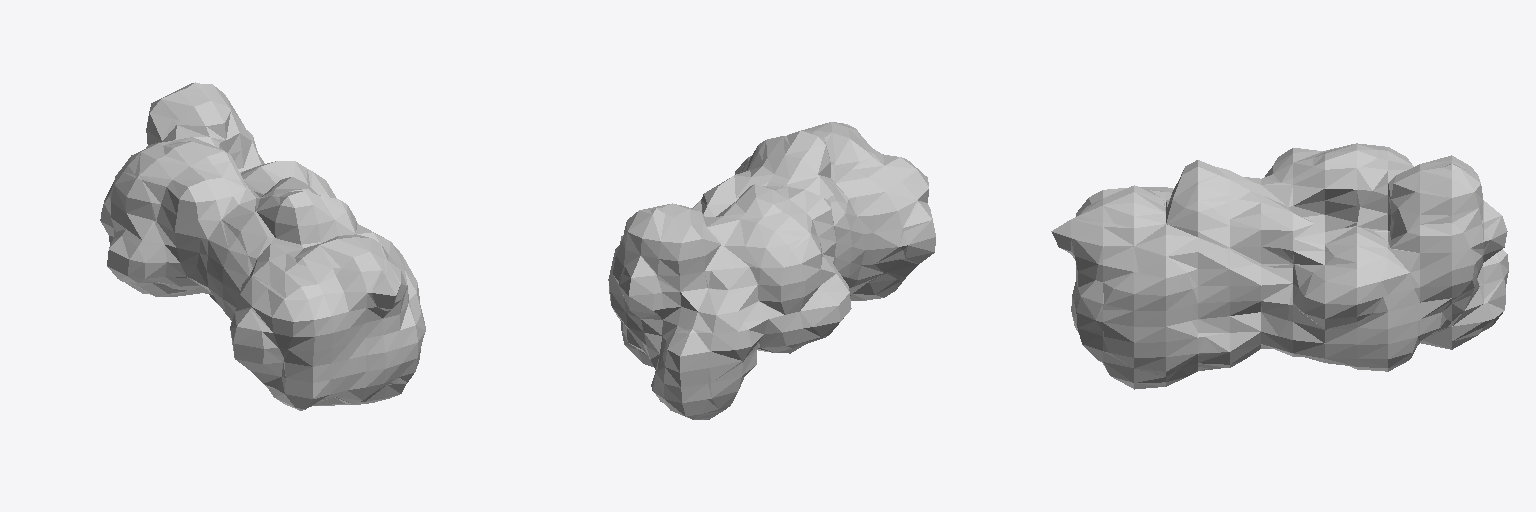
File: 4tqu_mb_cms.obj
The picture shows the model from 3 angles: view 1: azimuth 30°, elevation 25°; view 2: azimuth 150°, elevation 25°; view 3: azimuth 270°, elevation 25°; orthographic projection.
Size of the model in its own units: 94.69 by 85.26 by 169.